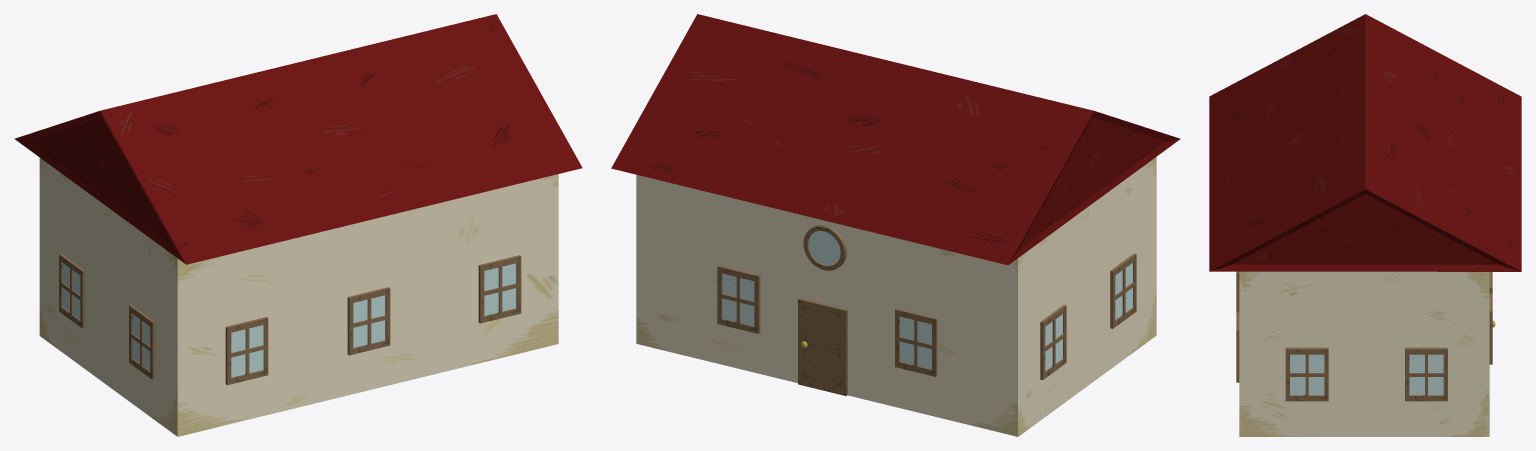
The model's file is maison 1.fbx.
3 renders of one model, left to right at view 1: azimuth 30°, elevation 25°; view 2: azimuth 150°, elevation 25°; view 3: azimuth 270°, elevation 25°, orthographic. The views are drawn at different scales.
Visible parts, largest first — view 1: base maison, toit, fenetre.001, fenetre.017, fenetre, fenetre.010, fenetre.018; view 2: base maison, toit, porte, fenetre.002, fenetre.003, fenetre.018, fenetre.010, Hulette; view 3: toit, base maison, fenetre.004, fenetre.019.
Part boxes in pixels (x1,y1,x2,y2): base maison: (39, 158, 558, 436); toit: (14, 14, 582, 264); fenetre.001: (478, 255, 521, 323); fenetre.017: (347, 287, 390, 355); fenetre: (225, 317, 268, 385); fenetre.010: (59, 253, 85, 328); fenetre.018: (129, 305, 155, 379); base maison: (636, 157, 1156, 436); toit: (611, 14, 1180, 265); porte: (798, 298, 847, 396); fenetre.002: (717, 265, 760, 333); fenetre.003: (895, 308, 937, 376); fenetre.018: (1110, 253, 1136, 328); fenetre.010: (1040, 305, 1066, 379); Hulette: (803, 225, 846, 270); toit: (1209, 14, 1521, 271); base maison: (1239, 271, 1489, 436); fenetre.004: (1285, 347, 1328, 401); fenetre.019: (1405, 347, 1447, 401).
Bounding box in the file's own units: 896 × 599 × 675.
5 materials, 3 textured.
